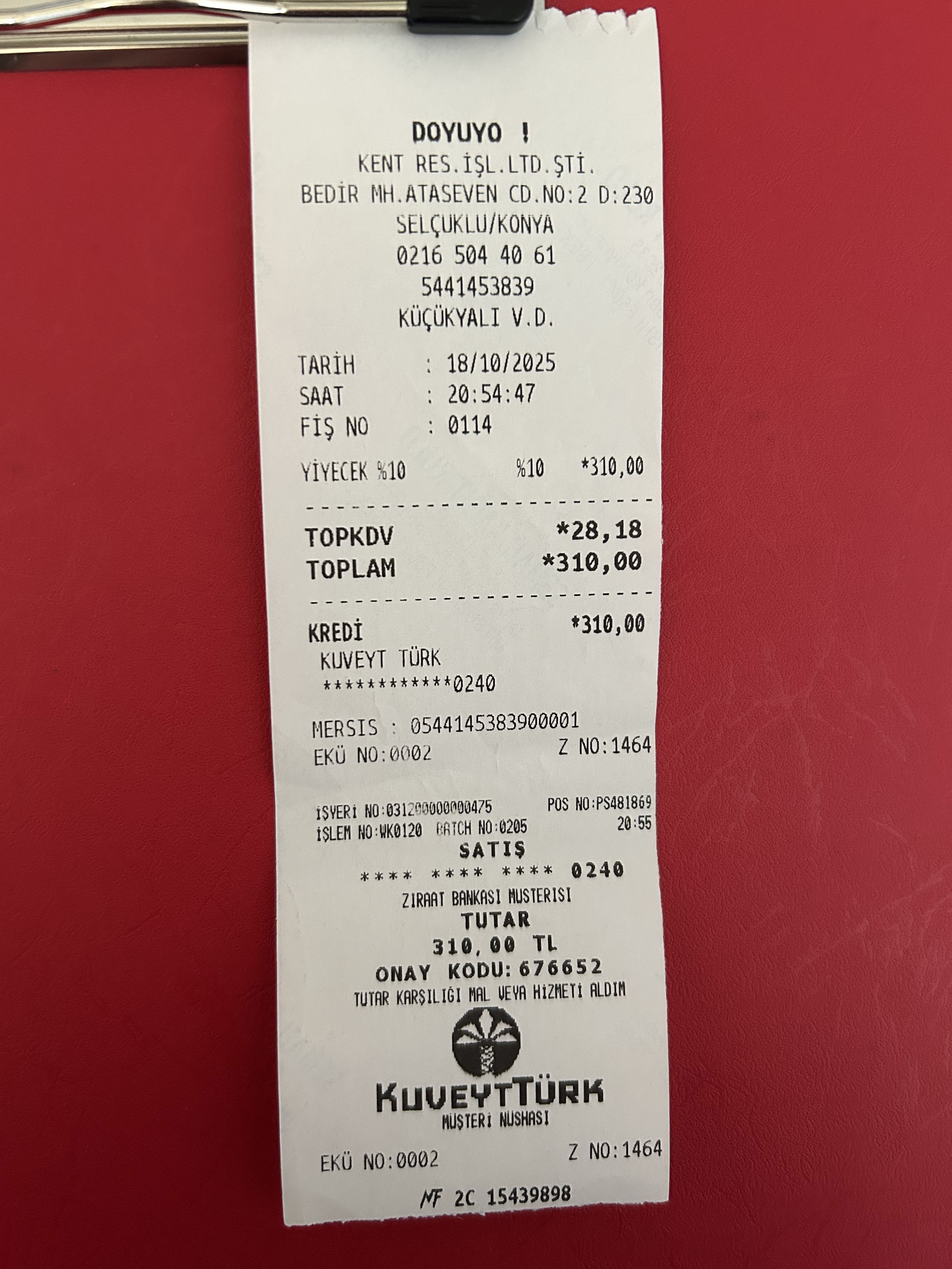date: (550, 542, 652, 583)
price: (441, 343, 562, 377)
workplace: (290, 110, 658, 237)
